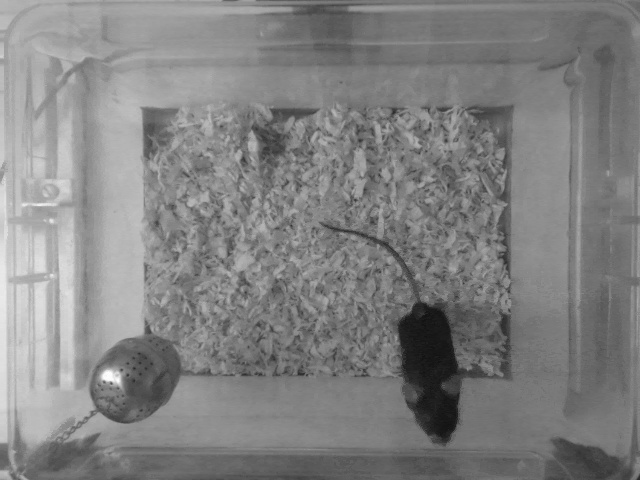mice: (317, 220, 459, 450)
